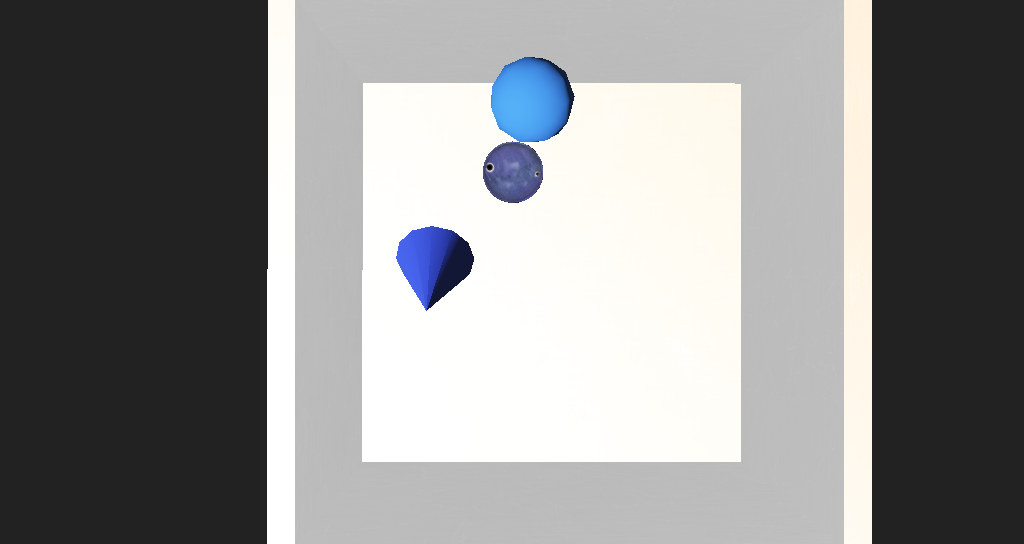cone: (445, 186, 499, 234)
cylinder: (374, 246, 448, 308)
sphere: (451, 148, 519, 196)
